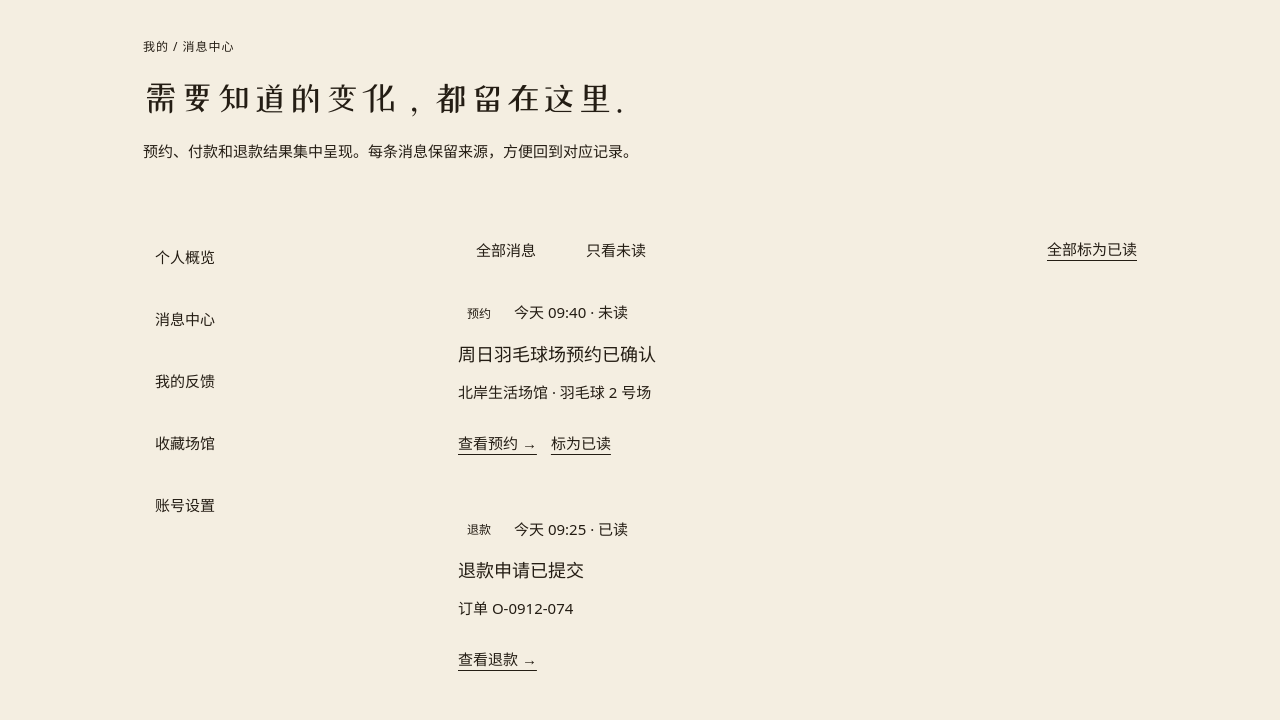
Test: ShiguangPersonalView › marks one message read and refreshes the unread count locally
The width and height of the screenshot is (1280, 720).
What coordinates should you click on to do the following:
click the button with test id "read-401"
I would click on:
 (581, 443)
Its box is left=551, top=421, right=611, bottom=466.
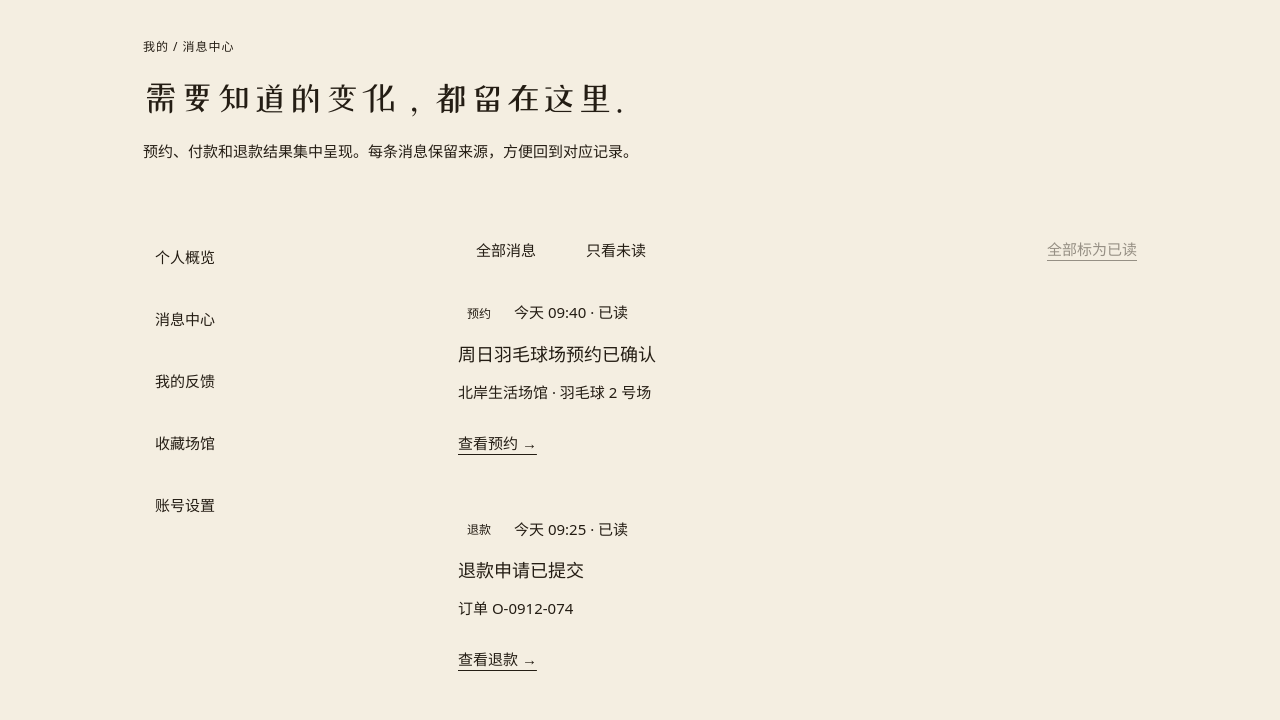
Expected: the text "今天 09:40 · 已读" is shown, left=514, top=300, right=628, bottom=326
